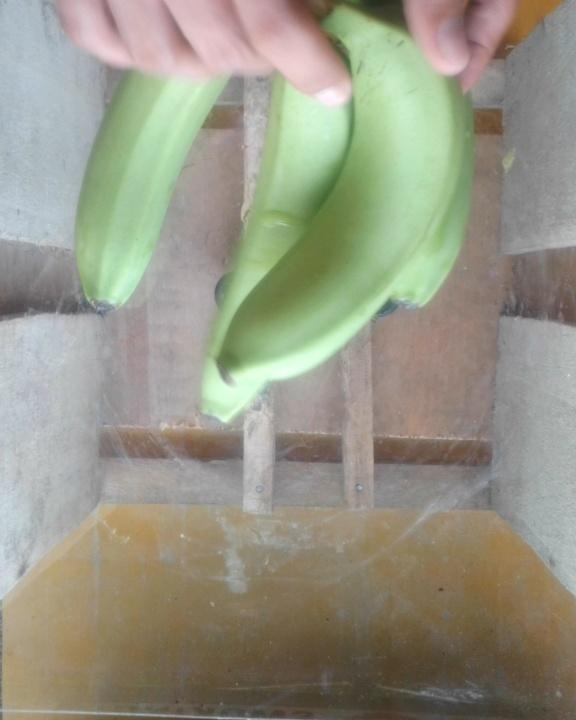SPOT: (70, 30, 529, 466)
